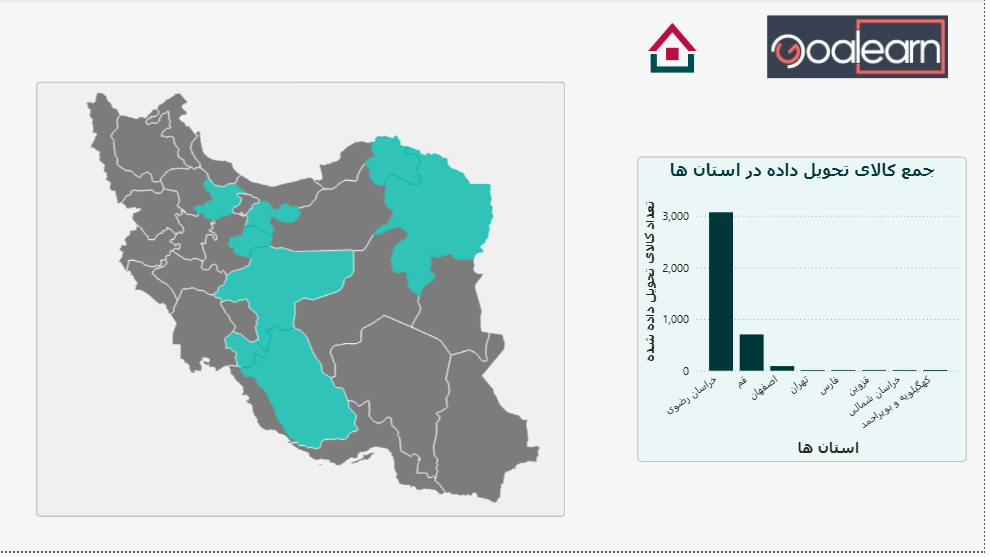

This screenshot's page, from the dashboard's own definition file:
{"tool":"powerbi","page":{"name":"Iran Map","canvas":[1280,720],"ordinal":3},"visuals":[{"type":"image","box":[837.4,17.9,74.8,94.3],"z":0},{"type":"image","box":[974,17.9,282.9,91.1],"z":1000},{"type":"PBI_CV_815282F9_27F5_4950_9430_E910E0A8DB6A","fields":{"Category":["درخواست کالا از انبار.استان"],"Y":["Sum(درخواست کالا از انبار.تعداد کالا)"]},"box":[47.2,108.9,687.8,565.9],"z":2000},{"type":"clusteredColumnChart","title":"جمع کالای تحویل داده در استان ها","fields":{"Category":["درخواست کالا از انبار.استان"],"Y":["CountNonNull(Total-GR-درخواست کالا.تحویل شد)"]},"box":[829.3,206.5,427.6,396.8],"z":3000}]}

Visuals, with their boxes in screenshot pixels (x1, y1, x2, y2), scaled from the page's 1280x720 canvas onto the 990x557 screenshot:
image: {"x1": 648, "y1": 14, "x2": 706, "y2": 87}
image: {"x1": 753, "y1": 14, "x2": 972, "y2": 84}
PBI_CV_815282F9_27F5_4950_9430_E910E0A8DB6A - درخواست کالا از انبار.استان x Sum(درخواست کالا از انبار.تعداد کالا): {"x1": 37, "y1": 84, "x2": 568, "y2": 522}
"جمع کالای تحویل داده در استان ها" clusteredColumnChart: {"x1": 641, "y1": 160, "x2": 972, "y2": 467}
